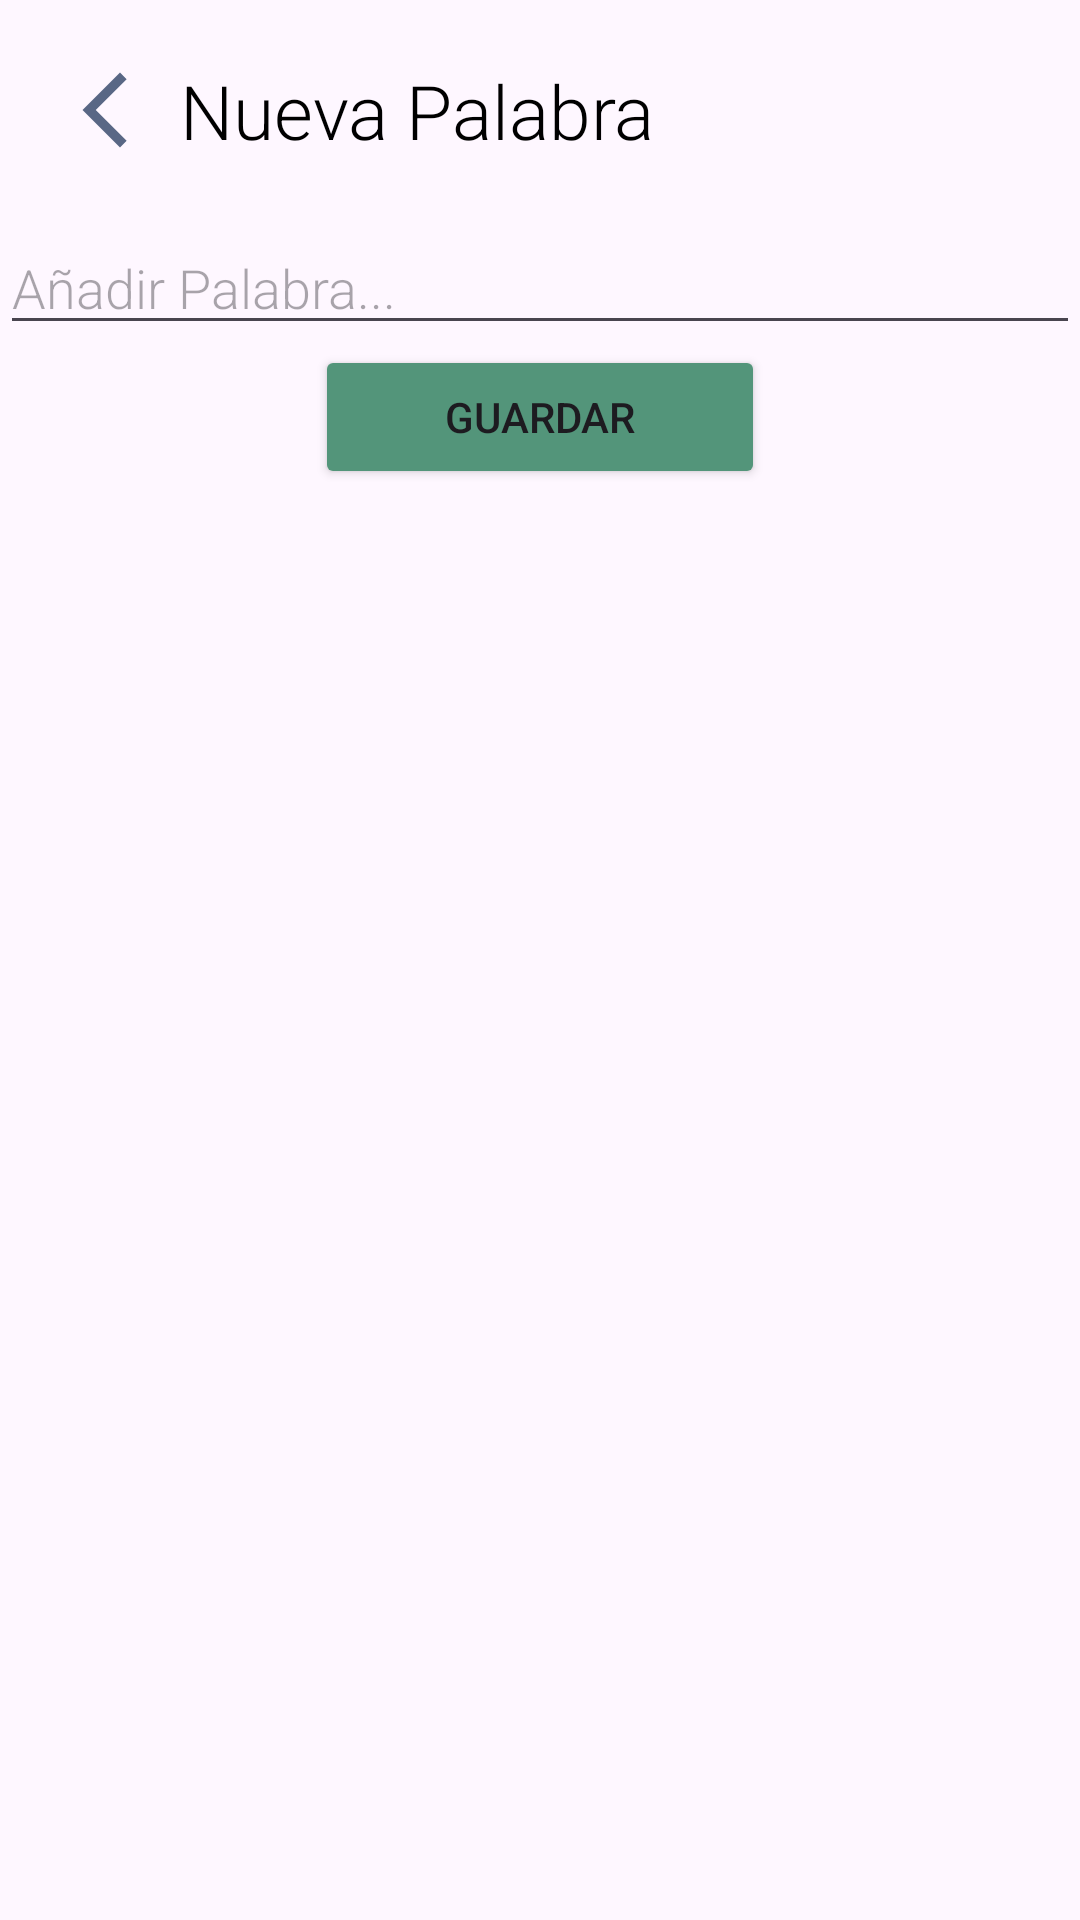

Where to tap for icons on this 1080×1920 app screen, as (x=x, y=y):
arrow back: (x=105, y=110)
